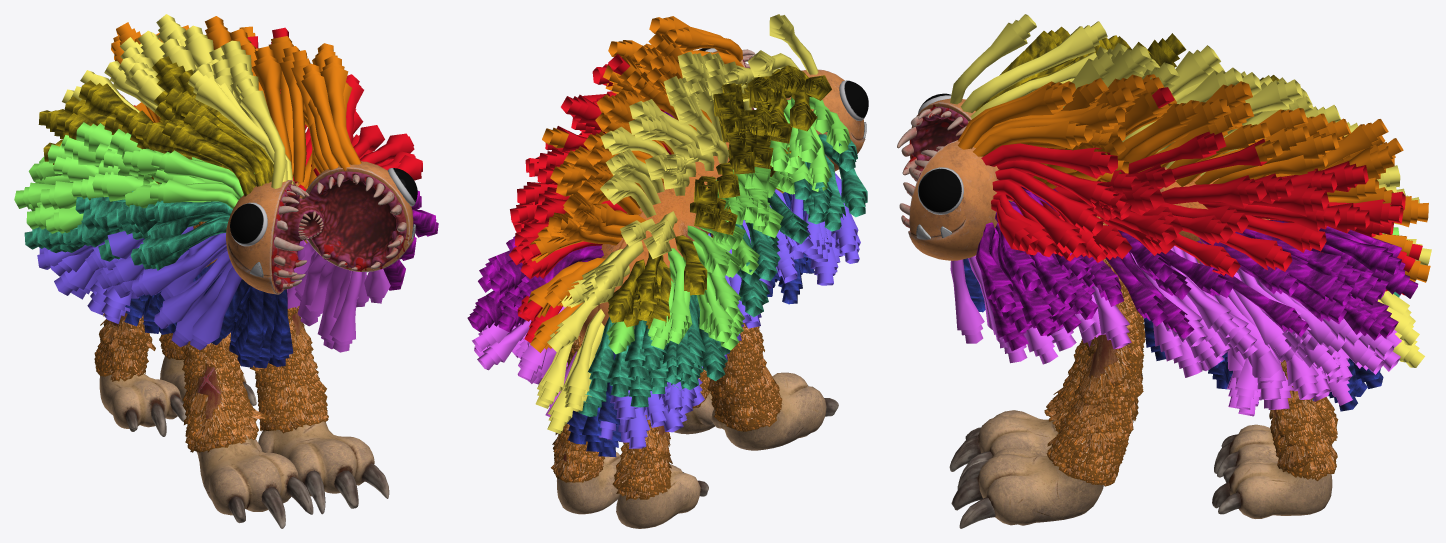
Rendered from yarnaby_poppy_playtime_ch4.glb.
The picture shows the model from 3 angles, left to right: view 1: azimuth 30°, elevation 25°; view 2: azimuth 150°, elevation 25°; view 3: azimuth 270°, elevation 25°; orthographic projection. The views are drawn at different scales.
Parts seen in each view (by area): view 1: YarnabeeMesh_BodyMat_0, YarnabeeMesh_HeadMat_0, YarnabeeMesh_FurMat_0, ManeMesh_GreenMane_0, ManeMesh_BlueMane_0, ManeMesh_OrangeMane_0, ManeMesh_YellowMane_0, ManeMesh_LightOrangeMane_0, ManeMesh_CyanMane_0, ManeMesh_DarkBlueMane_0, ManeMesh_PurpleMane_0, ManeMesh_RedMane_0 (+1 smaller); view 2: ManeMesh_LightOrangeMane_0, ManeMesh_OrangeMane_0, ManeMesh_CyanMane_0, ManeMesh_GreenMane_0, ManeMesh_YellowMane_0, YarnabeeMesh_BodyMat_0, YarnabeeMesh_FurMat_0, ManeMesh_BlueMane_0, ManeMesh_RedMane_0, ManeMesh_PinkMane_0, ManeMesh_DarkBlueMane_0, ManeMesh_PurpleMane_0 (+1 smaller); view 3: ManeMesh_RedMane_0, ManeMesh_PinkMane_0, ManeMesh_OrangeMane_0, ManeMesh_PurpleMane_0, YarnabeeMesh_BodyMat_0, ManeMesh_LightOrangeMane_0, YarnabeeMesh_FurMat_0, YarnabeeMesh_HeadMat_0, ManeMesh_YellowMane_0, ManeMesh_DarkBlueMane_0.
Boxes of the visible parts, x1=… form: YarnabeeMesh_BodyMat_0: x1=99, y1=310, x2=389, y2=528; YarnabeeMesh_HeadMat_0: x1=226, y1=161, x2=417, y2=294; YarnabeeMesh_FurMat_0: x1=94, y1=182, x2=328, y2=452; ManeMesh_GreenMane_0: x1=14, y1=122, x2=254, y2=233; ManeMesh_BlueMane_0: x1=37, y1=226, x2=241, y2=350; ManeMesh_OrangeMane_0: x1=111, y1=16, x2=361, y2=189; ManeMesh_YellowMane_0: x1=38, y1=56, x2=273, y2=196; ManeMesh_LightOrangeMane_0: x1=62, y1=14, x2=293, y2=188; ManeMesh_CyanMane_0: x1=24, y1=191, x2=232, y2=270; ManeMesh_DarkBlueMane_0: x1=124, y1=249, x2=293, y2=368; ManeMesh_PurpleMane_0: x1=287, y1=239, x2=390, y2=352; ManeMesh_RedMane_0: x1=134, y1=27, x2=422, y2=191; ManeMesh_LightOrangeMane_0: x1=535, y1=14, x2=818, y2=433; ManeMesh_OrangeMane_0: x1=527, y1=16, x2=743, y2=352; ManeMesh_CyanMane_0: x1=578, y1=131, x2=867, y2=416; ManeMesh_GreenMane_0: x1=606, y1=97, x2=850, y2=354; ManeMesh_YellowMane_0: x1=608, y1=65, x2=831, y2=328; YarnabeeMesh_BodyMat_0: x1=557, y1=142, x2=838, y2=528; YarnabeeMesh_FurMat_0: x1=551, y1=233, x2=782, y2=500; ManeMesh_BlueMane_0: x1=598, y1=173, x2=860, y2=448; ManeMesh_RedMane_0: x1=509, y1=54, x2=671, y2=342; ManeMesh_PinkMane_0: x1=467, y1=111, x2=674, y2=332; ManeMesh_DarkBlueMane_0: x1=567, y1=192, x2=814, y2=457; ManeMesh_PurpleMane_0: x1=472, y1=306, x2=576, y2=416; ManeMesh_RedMane_0: x1=981, y1=87, x2=1422, y2=295; ManeMesh_PinkMane_0: x1=975, y1=186, x2=1418, y2=351; ManeMesh_OrangeMane_0: x1=958, y1=74, x2=1430, y2=282; ManeMesh_PurpleMane_0: x1=950, y1=245, x2=1401, y2=416; YarnabeeMesh_BodyMat_0: x1=949, y1=167, x2=1332, y2=528; ManeMesh_LightOrangeMane_0: x1=950, y1=14, x2=1431, y2=367; YarnabeeMesh_FurMat_0: x1=1044, y1=216, x2=1338, y2=486; YarnabeeMesh_HeadMat_0: x1=897, y1=93, x2=1012, y2=260; ManeMesh_YellowMane_0: x1=975, y1=26, x2=1405, y2=195; ManeMesh_DarkBlueMane_0: x1=963, y1=258, x2=1383, y2=411.
Size of the model in its own units: 2.49 by 3.46 by 3.67.
13 materials, 7 textured.
